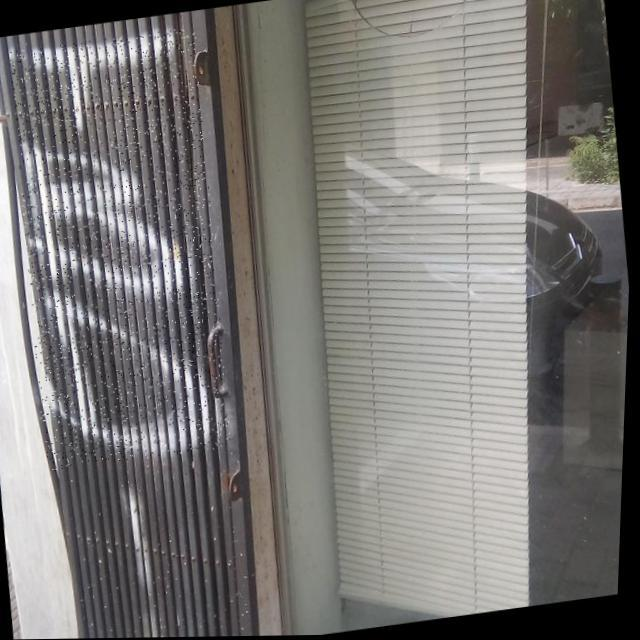-: (0, 25, 246, 472)
